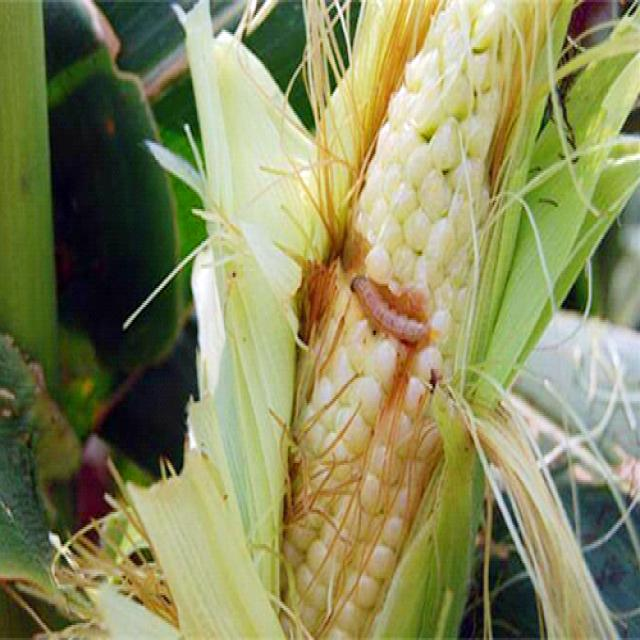pest: (352, 279, 430, 344)
